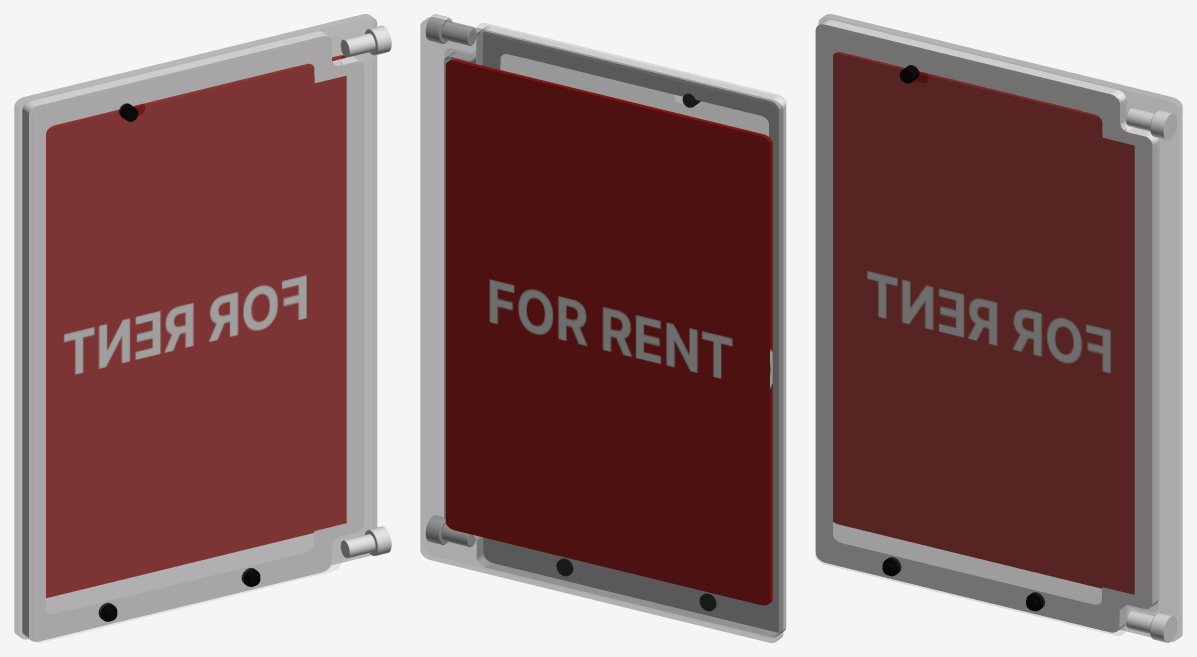
File: a4vertr8.glb
The picture shows the model from 3 angles, left to right: view 1: azimuth 30°, elevation 25°; view 2: azimuth 150°, elevation 25°; view 3: azimuth 330°, elevation 25°; orthographic projection.
Parts seen in each view (by area): view 1: a4vertone; view 2: a4vertone; view 3: a4vertone.
Part boxes in pixels (left/top/right/bottom): a4vertone: left=14, top=14, right=391, bottom=642; a4vertone: left=420, top=14, right=786, bottom=642; a4vertone: left=815, top=14, right=1182, bottom=642.
Size of the model in its own units: 0.2021 by 0.2905 by 0.0187.
6 materials, 1 textured.
